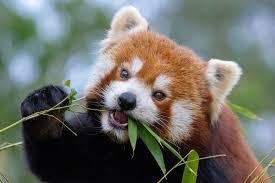redPanda: (18, 8, 233, 163)
